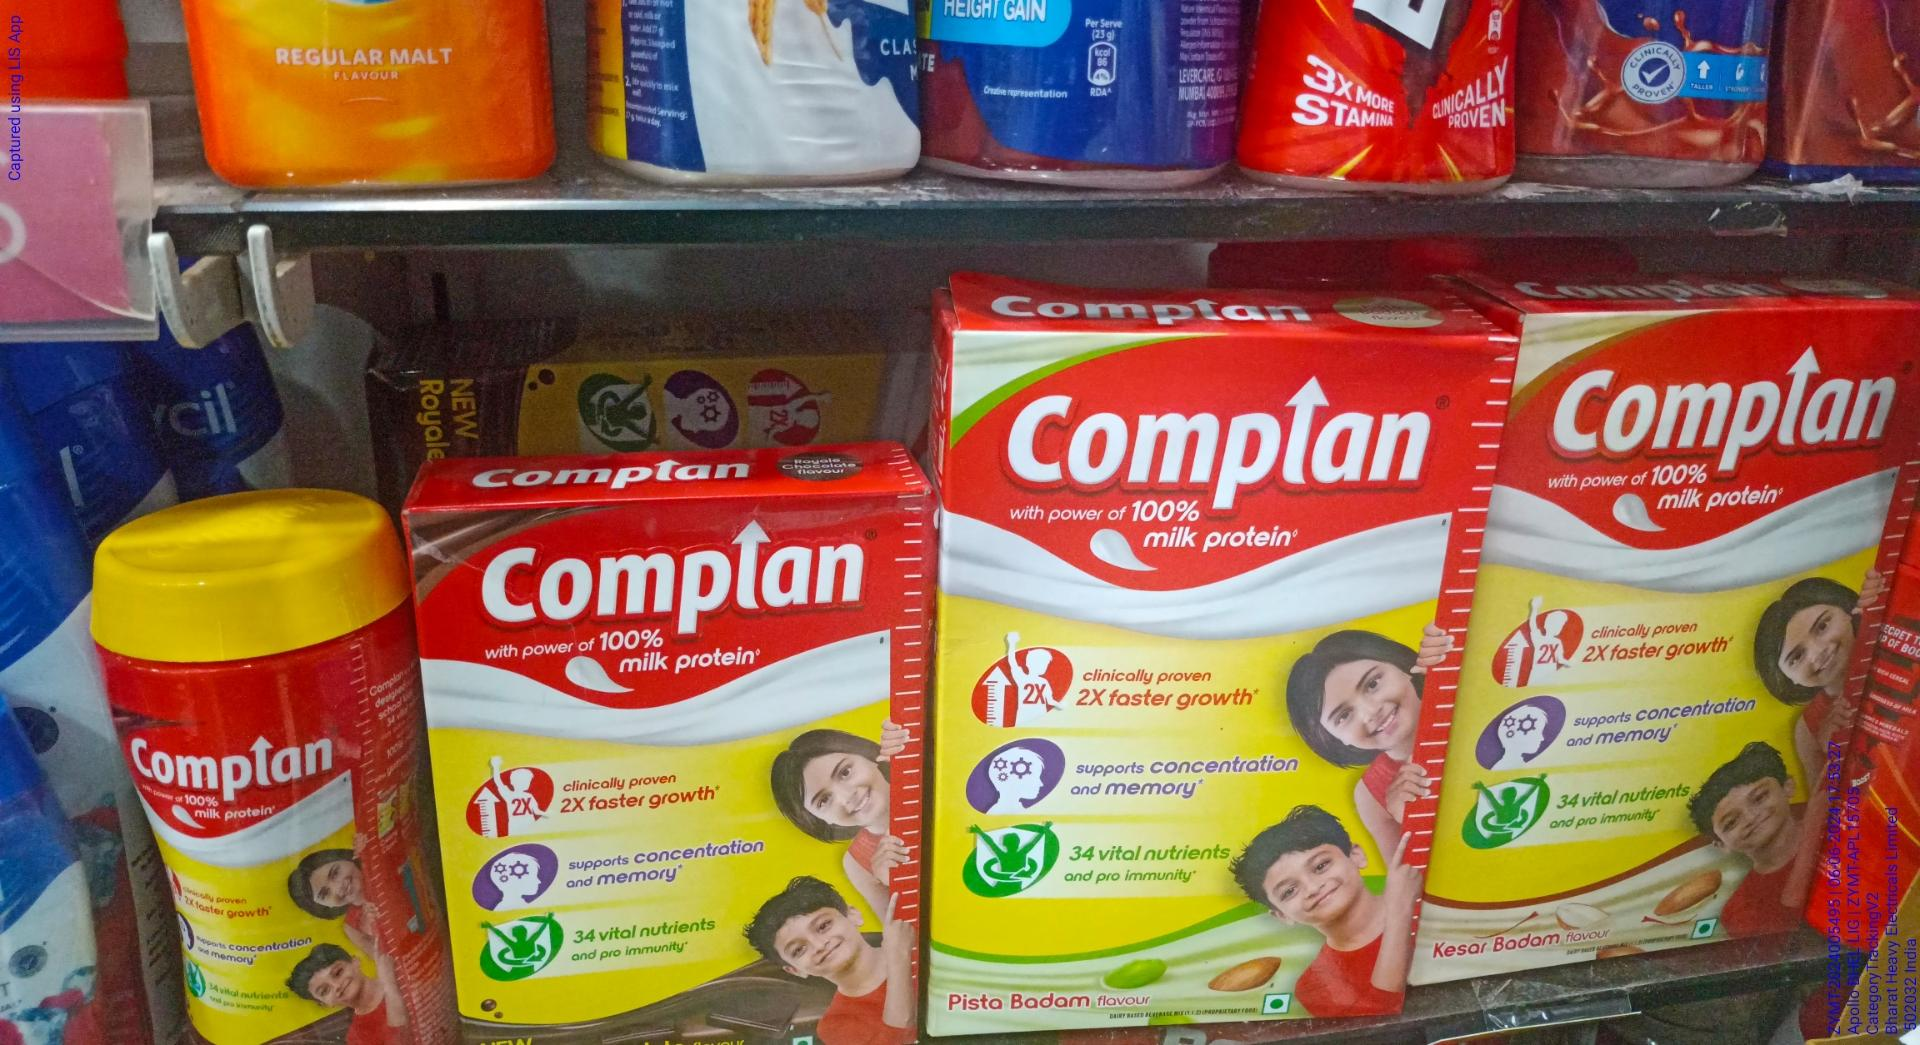COMPLAN_CHOCOLATE_200_GMS_JAR: (90, 580, 362, 1045)
COMPLAN_CHOCOLATE_200_GMS_PACK: (408, 495, 910, 1045)
COMPLAN_KESAR_BADAM_500_GMS_PACK: (1486, 302, 1920, 1045)
COMPLAN_PISTA_BADAM_500_GMS_PACK: (942, 317, 1468, 1045)
